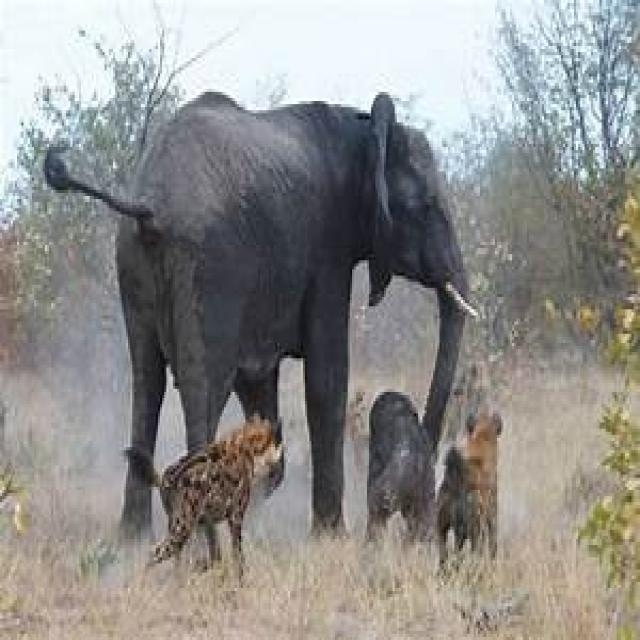elephant: (43, 92, 471, 533)
